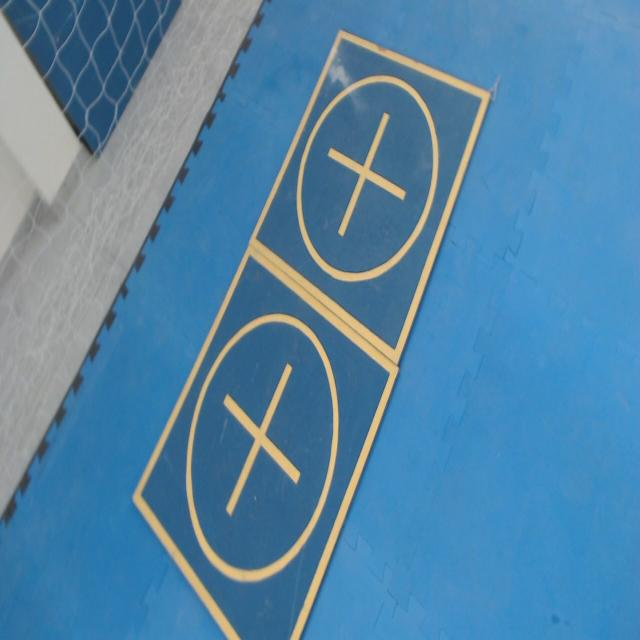base_pouso: (130, 244, 401, 639), (249, 30, 492, 366)
